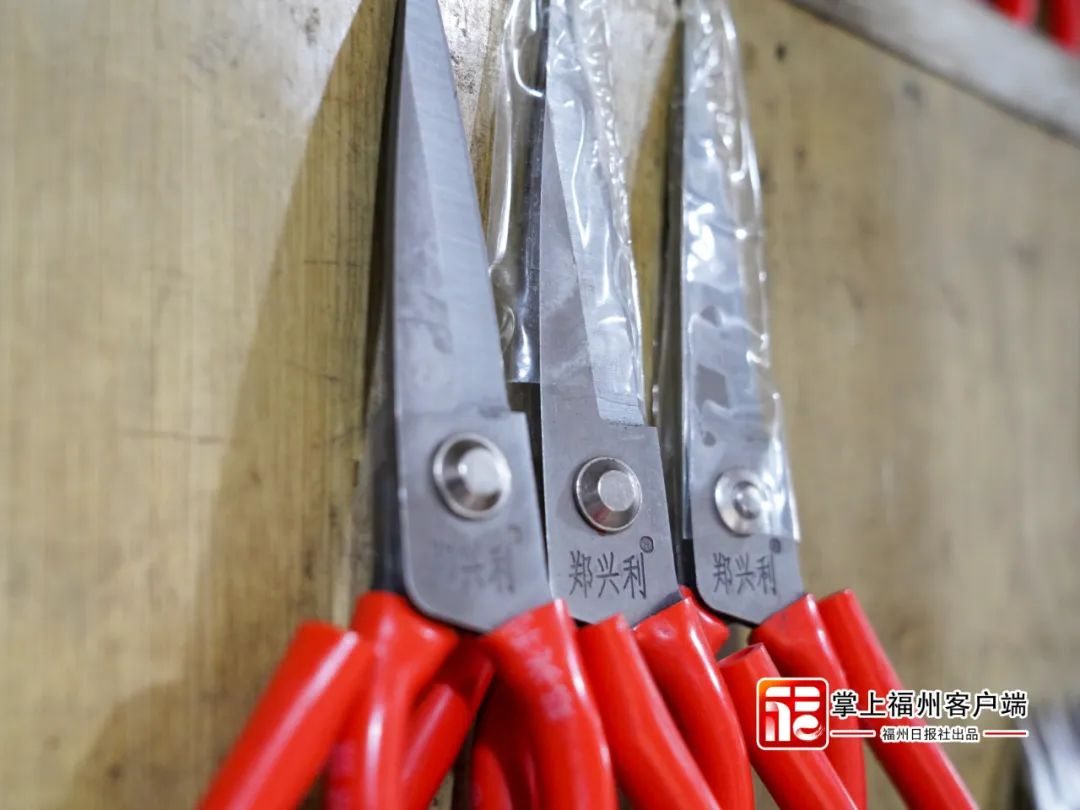scissors: (220, 1, 620, 810), (591, 1, 981, 809), (391, 1, 756, 806)
